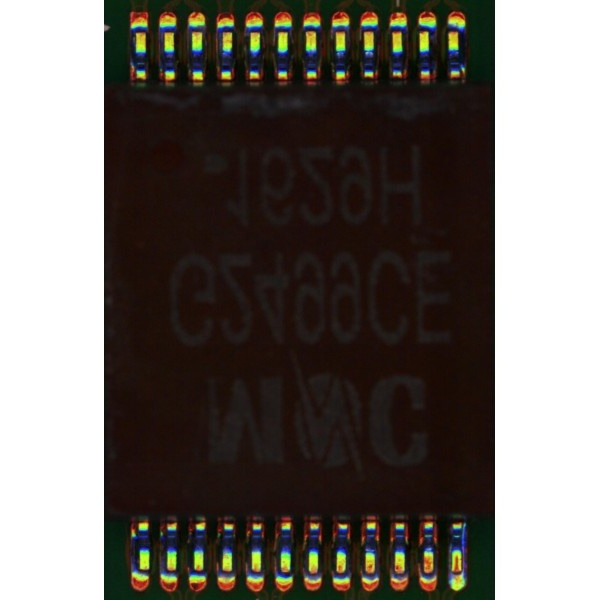Bad_podu: (452, 567, 462, 583)
Bad_qiaojiao: (461, 523, 466, 571)
